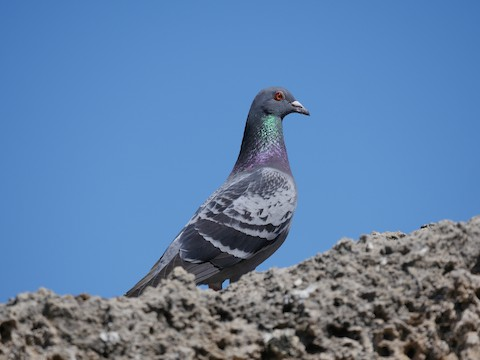pigeon: (121, 81, 314, 305)
